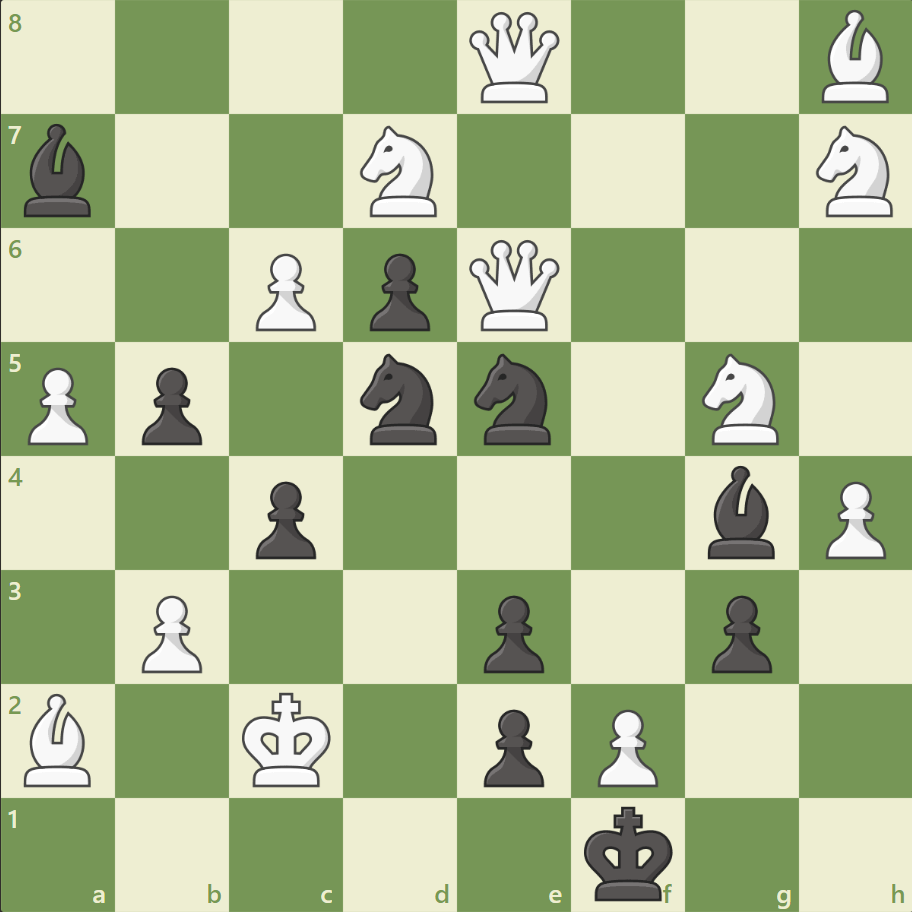B: (812, 6, 896, 109), (17, 687, 101, 790)
K: (238, 685, 338, 793)
N: (351, 121, 449, 223), (806, 121, 903, 223), (692, 348, 789, 450)
P: (247, 246, 322, 337), (20, 359, 95, 450), (133, 586, 208, 677), (815, 473, 889, 564), (588, 700, 662, 791)
Q: (464, 9, 563, 108), (464, 236, 563, 335)
b: (698, 460, 782, 563), (17, 120, 101, 222)
k: (579, 798, 679, 906)
n: (351, 348, 449, 450), (465, 348, 562, 450)
p: (133, 359, 208, 450), (247, 473, 322, 564), (474, 586, 549, 677), (701, 586, 776, 677), (474, 700, 549, 791), (361, 246, 435, 337)
